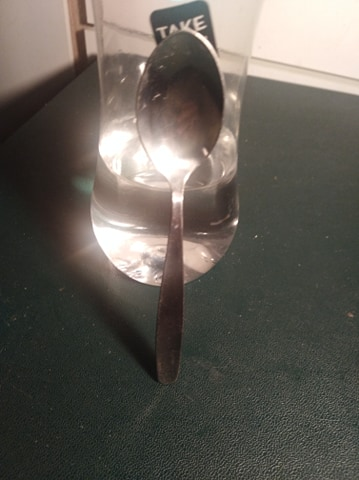Lyzka: (134, 27, 224, 186)
